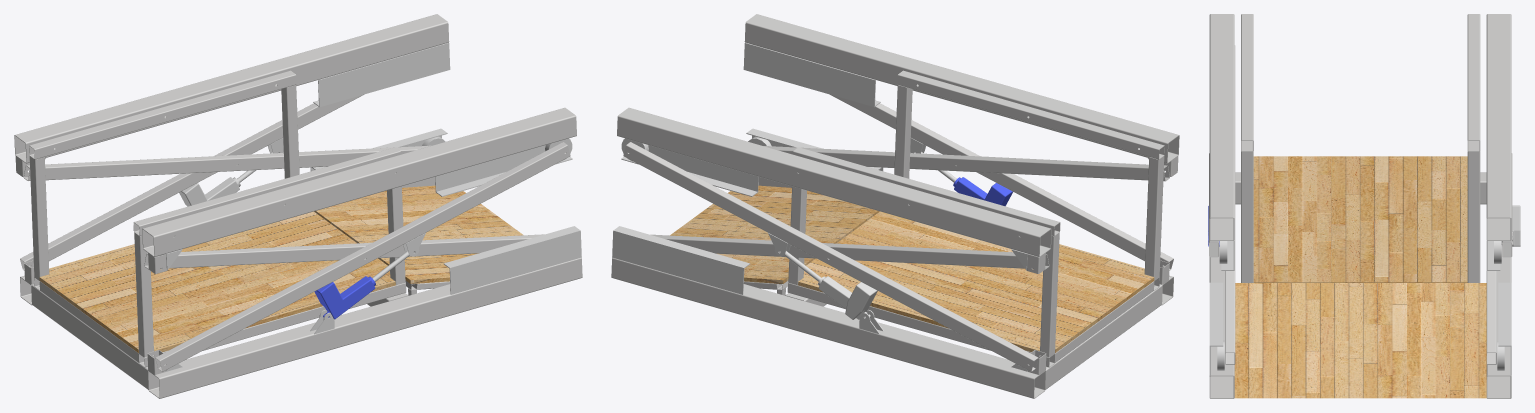
The model's file is PLATAFORMA_ESCENARIO.glb.
3 views of the same model, side by side, from view 1: azimuth 30°, elevation 25°; view 2: azimuth 150°, elevation 25°; view 3: azimuth 270°, elevation 25° (orthographic). The views are drawn at different scales.
Visible parts, largest first — view 1: PLATAFORMA_ESCENARIO; view 2: PLATAFORMA_ESCENARIO; view 3: PLATAFORMA_ESCENARIO.
Part boxes in pixels (box(x1,y1,x2,y2)): PLATAFORMA_ESCENARIO: box(14, 14, 582, 398); PLATAFORMA_ESCENARIO: box(611, 14, 1179, 398); PLATAFORMA_ESCENARIO: box(1208, 14, 1520, 398).
Size of the model in its own units: 2.13 by 0.8647 by 1.24.
Materials: 4 (1 with a texture image).
